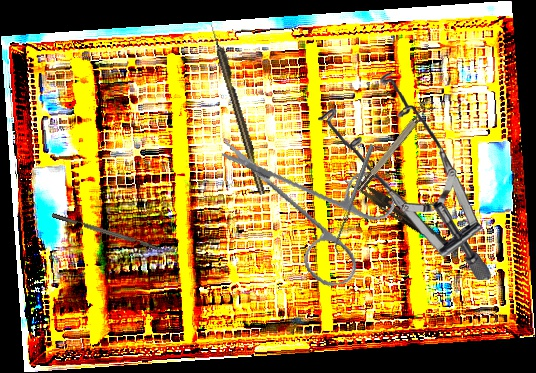Chopper: (51, 207, 177, 257)
Dressing Forceps: (340, 172, 463, 256)
Fixation Ring: (351, 98, 436, 194)
Hook Surgical: (208, 22, 267, 196)
Iris Scissors: (219, 111, 409, 303)
Spatula Surgical: (330, 143, 379, 257)
Speculum: (316, 69, 492, 286)
